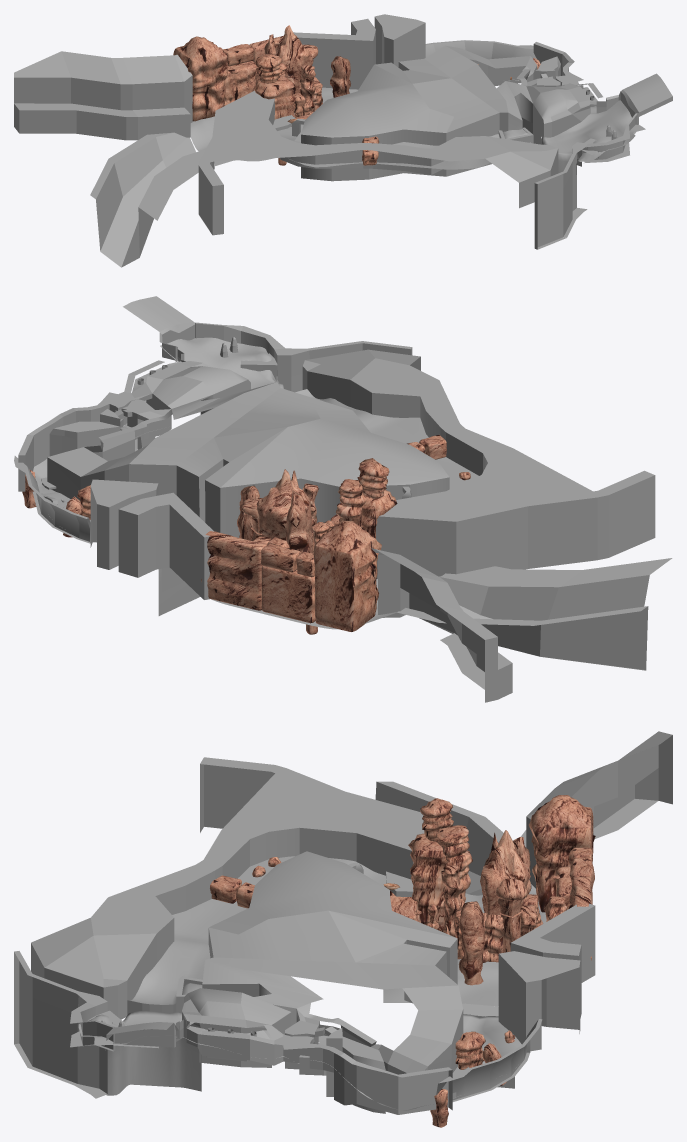
Rendered from env_level02_canyonUpperLowerV5.fbx.
3 renders of one model, top to bottom at view 1: azimuth 30°, elevation 25°; view 2: azimuth 150°, elevation 25°; view 3: azimuth 270°, elevation 25°, orthographic. The views are drawn at different scales.
Parts seen in each view (by area): view 1: polySurface2, pCube46, pCube62, polySurface4, pCube76, pCube25, rockwall_a00, pCube125, pCube47, pCube64, pCube102, pCube123 (+9 smaller); view 2: polySurface2, pCube62, polySurface4, pCube46, pCube25, rockwall_a00, rockwall_a03, pCube76, pCube47, pCube125, rockwall_a04, pCube123 (+11 smaller); view 3: polySurface2, pCube62, pCube76, pCube46, pCube47, pCube123, pCube125, rockwall_a00, pCube25, polySurface4, rockwall_c03, pCube102 (+15 smaller).
Boxes of the visible parts, box(x1,y1,x2,y2) form: polySurface2: box(301, 42, 606, 181); pCube46: box(14, 51, 192, 140); pCube62: box(198, 90, 558, 235); polySurface4: box(90, 132, 232, 267); pCube76: box(534, 113, 637, 249); pCube25: box(293, 18, 375, 89); rockwall_a00: box(173, 36, 227, 121); pCube125: box(541, 100, 645, 174); pCube47: box(374, 14, 425, 67); pCube64: box(606, 73, 672, 124); pCube102: box(425, 40, 536, 59); pCube123: box(277, 124, 530, 169); polySurface2: box(18, 349, 449, 537); pCube62: box(302, 349, 655, 578); polySurface4: box(397, 558, 672, 670); pCube46: box(371, 548, 512, 702); pCube25: box(118, 492, 213, 599); rockwall_a00: box(313, 520, 381, 631); rockwall_a03: box(201, 531, 266, 610); pCube76: box(194, 322, 412, 392); pCube47: box(90, 479, 158, 569); pCube125: box(160, 337, 283, 389); rockwall_a04: box(261, 566, 315, 623); pCube123: box(295, 389, 478, 489); polySurface2: box(176, 851, 463, 1114); pCube62: box(31, 757, 424, 1019); pCube76: box(14, 951, 115, 1098); pCube46: box(521, 731, 672, 888); pCube47: box(498, 951, 580, 1051); pCube123: box(127, 856, 389, 1014); pCube125: box(78, 1011, 201, 1095); rockwall_a00: box(528, 795, 595, 912); pCube25: box(510, 903, 595, 1018); polySurface4: box(375, 781, 503, 895); rockwall_c03: box(408, 833, 447, 931); pCube102: box(436, 1019, 542, 1101).
Bounding box in the file's own units: 60924 × 17406 × 50583.
